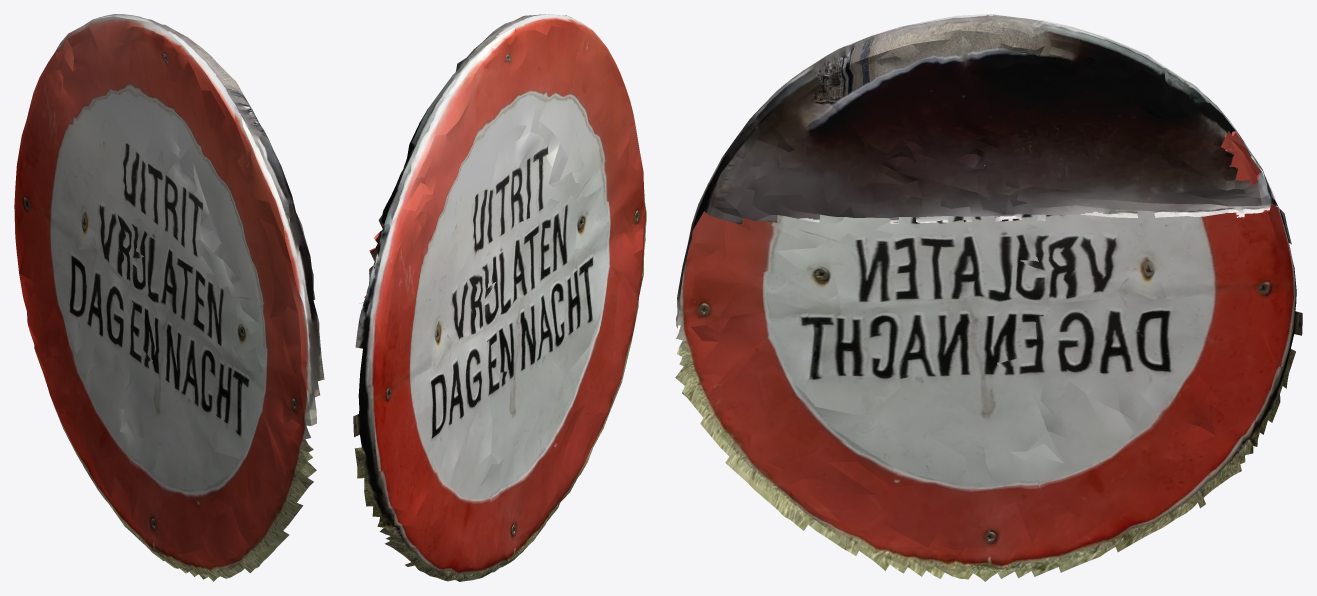
The model's file is S024_ClearSign.glb.
The picture shows the model from 3 angles, left to right: view 1: azimuth 30°, elevation 25°; view 2: azimuth 150°, elevation 25°; view 3: azimuth 270°, elevation 25°; orthographic projection. The views are drawn at different scales.
Visible parts, largest first — view 1: S024_RETOPO; view 2: S024_RETOPO; view 3: S024_RETOPO.
Part boxes in pixels (left/top/right/bottom): S024_RETOPO: left=14, top=14, right=324, bottom=581; S024_RETOPO: left=353, top=14, right=646, bottom=581; S024_RETOPO: left=675, top=14, right=1302, bottom=581.
Bounding box in the file's own units: 0.1975 × 2.3 × 2.29.
1 material, 1 textured.
